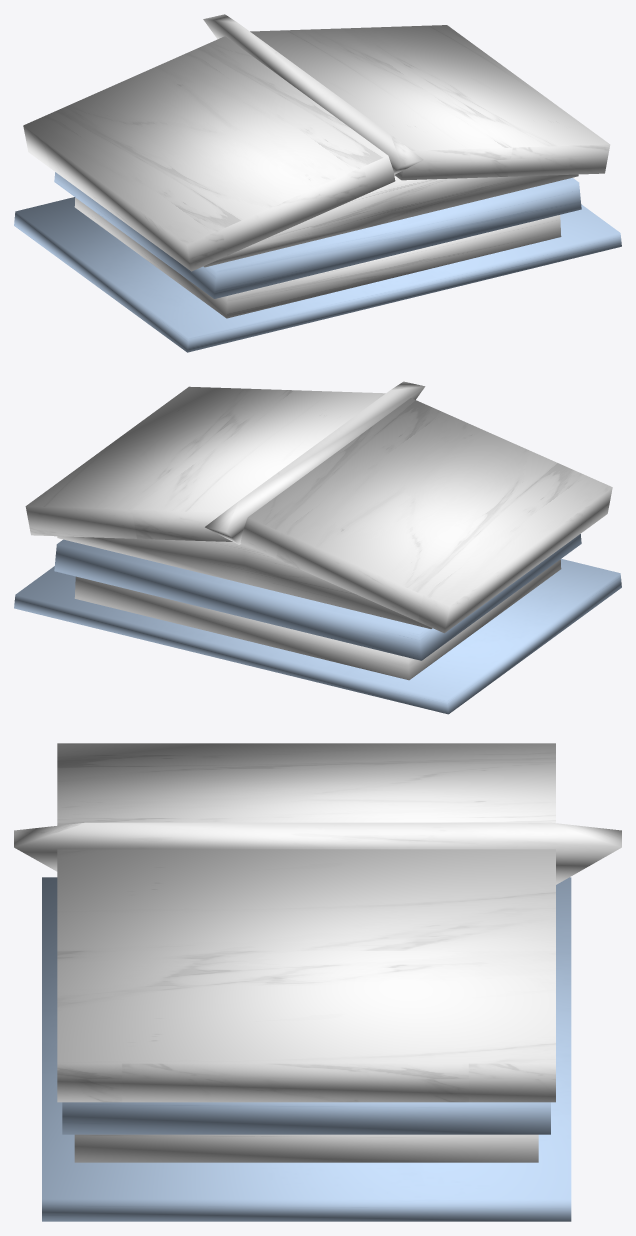
Rendered from GreekRoof2.fbx.
3 renders of one model, top to bottom at view 1: azimuth 30°, elevation 25°; view 2: azimuth 150°, elevation 25°; view 3: azimuth 270°, elevation 25°, orthographic. The views are drawn at different scales.
Parts seen in each view (by area): view 1: Cube.019; view 2: Cube.019; view 3: Cube.019.
Part boxes in pixels (x1,y1,x2,y2): Cube.019: (14,14,621,352); Cube.019: (14,381,621,714); Cube.019: (14,743,621,1221).
Size of the model in its own units: 1951 by 665 by 1548.
